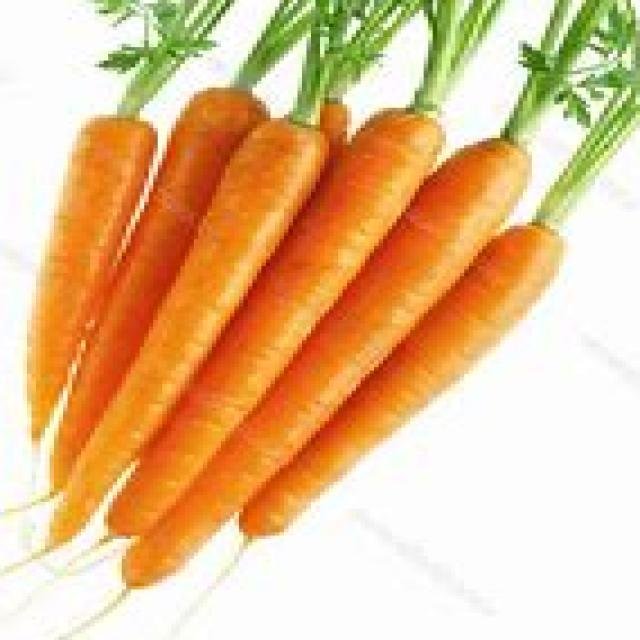carrot: (120, 139, 534, 591), (102, 110, 445, 540), (39, 118, 323, 556), (241, 225, 567, 539), (52, 86, 270, 504), (27, 117, 157, 446)
